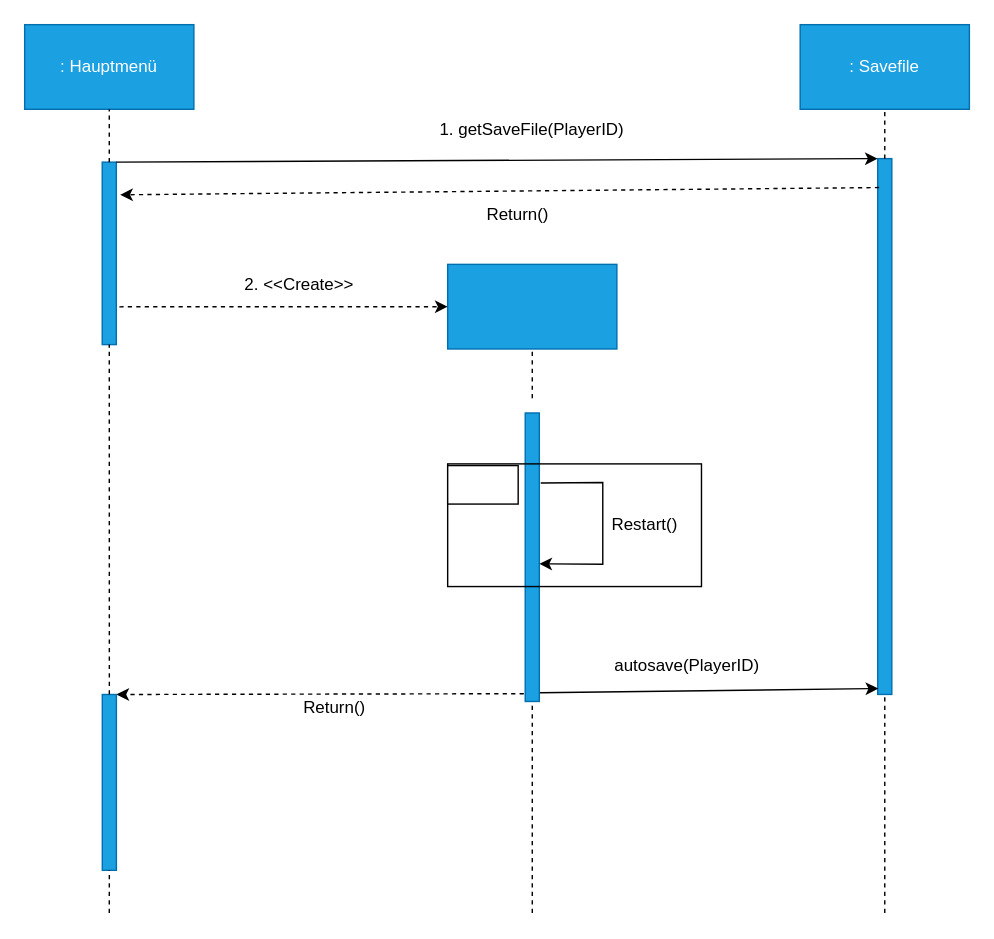
Image size: 994x939. Some labels were removed from this diagram. The shapes that lost their labels are listed below. From the top down, each one's box as (x1, y1, x2, y2) in pixels, then its label:
(446, 263, 617, 349): : Spiel
(446, 464, 518, 504): opt
